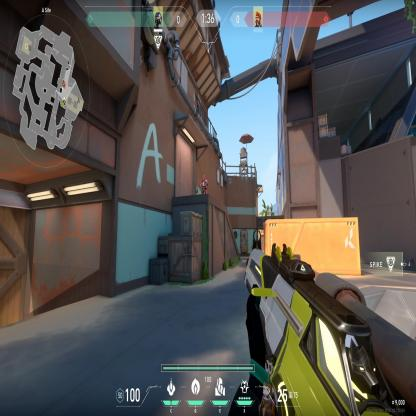enemy: (200, 174, 208, 194)
